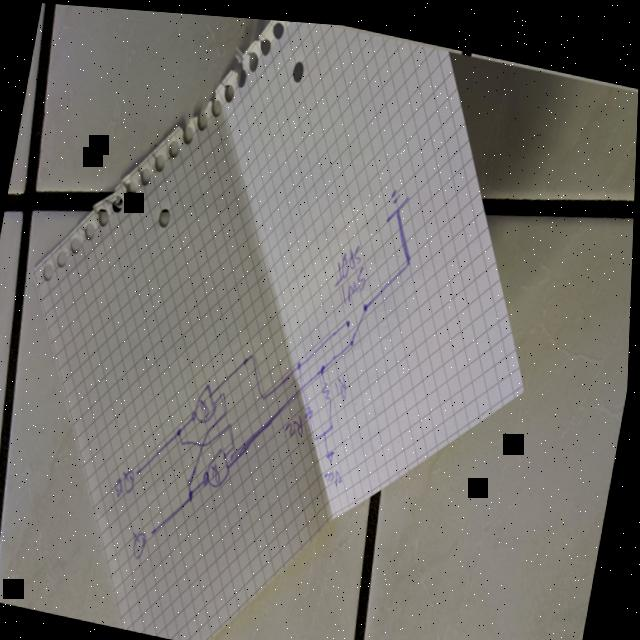crossover: (302, 379, 310, 388), (202, 438, 210, 447)
ground: (386, 181, 414, 222)
junction: (406, 247, 416, 264), (297, 354, 308, 367), (190, 487, 199, 501), (190, 475, 198, 486), (263, 388, 271, 398), (332, 417, 339, 428), (180, 424, 186, 436), (322, 361, 329, 371), (252, 348, 258, 359), (224, 386, 230, 396), (315, 430, 321, 439), (209, 424, 215, 433), (183, 437, 189, 445), (210, 436, 216, 444), (324, 426, 330, 433), (232, 418, 237, 426), (227, 406, 232, 414), (234, 442, 240, 448)
resistor: (322, 375, 338, 399), (305, 400, 318, 418)
source: (327, 444, 339, 461)
switch: (344, 294, 372, 345)
terminal: (153, 525, 161, 537), (138, 466, 143, 475)
text: (335, 235, 366, 288), (341, 256, 371, 305), (115, 465, 143, 503), (286, 410, 310, 439), (134, 528, 153, 560), (334, 368, 354, 398), (325, 462, 349, 486)
